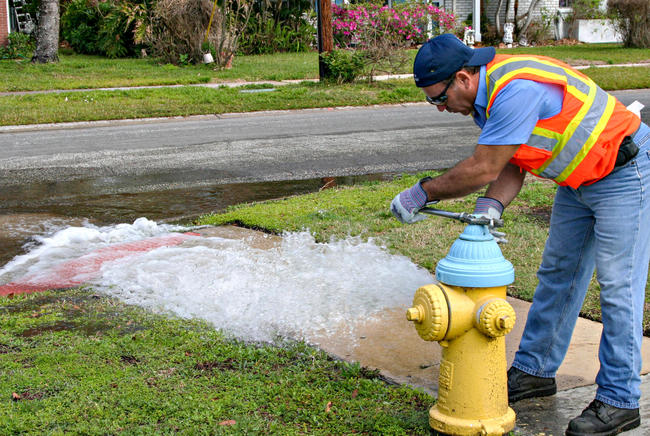FireHydrant: (404, 222, 536, 433)
Person: (414, 31, 650, 434)
